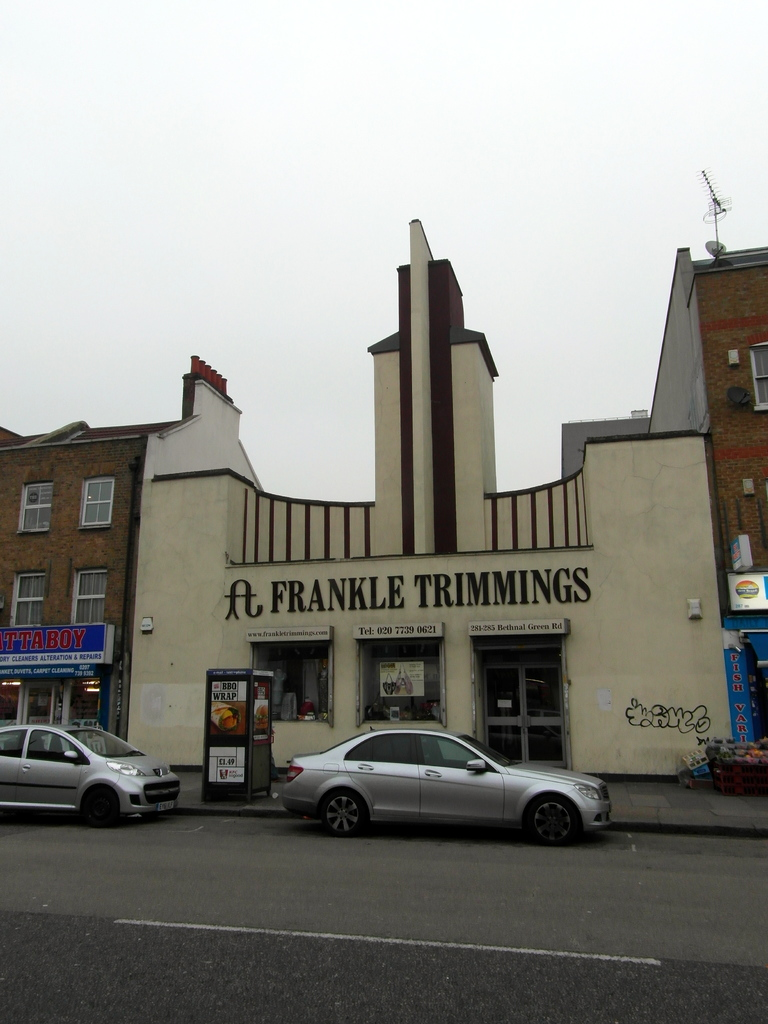Car: (266, 723, 621, 842), (0, 718, 187, 828)
